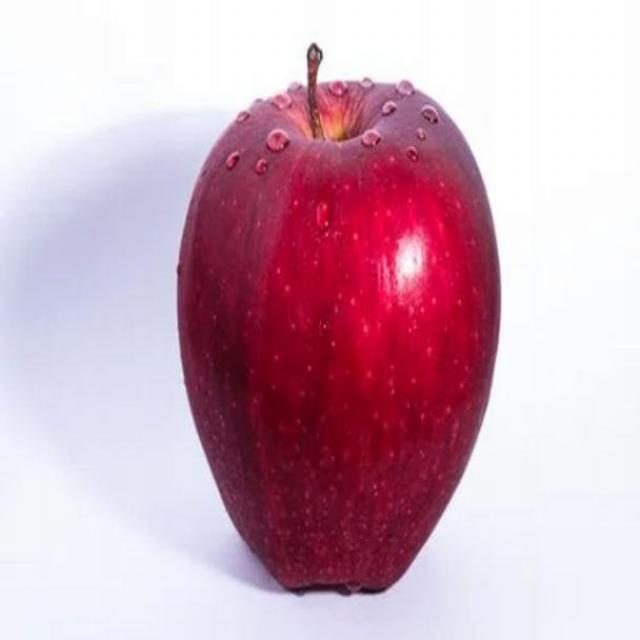HEALTHY: (157, 53, 507, 607)
